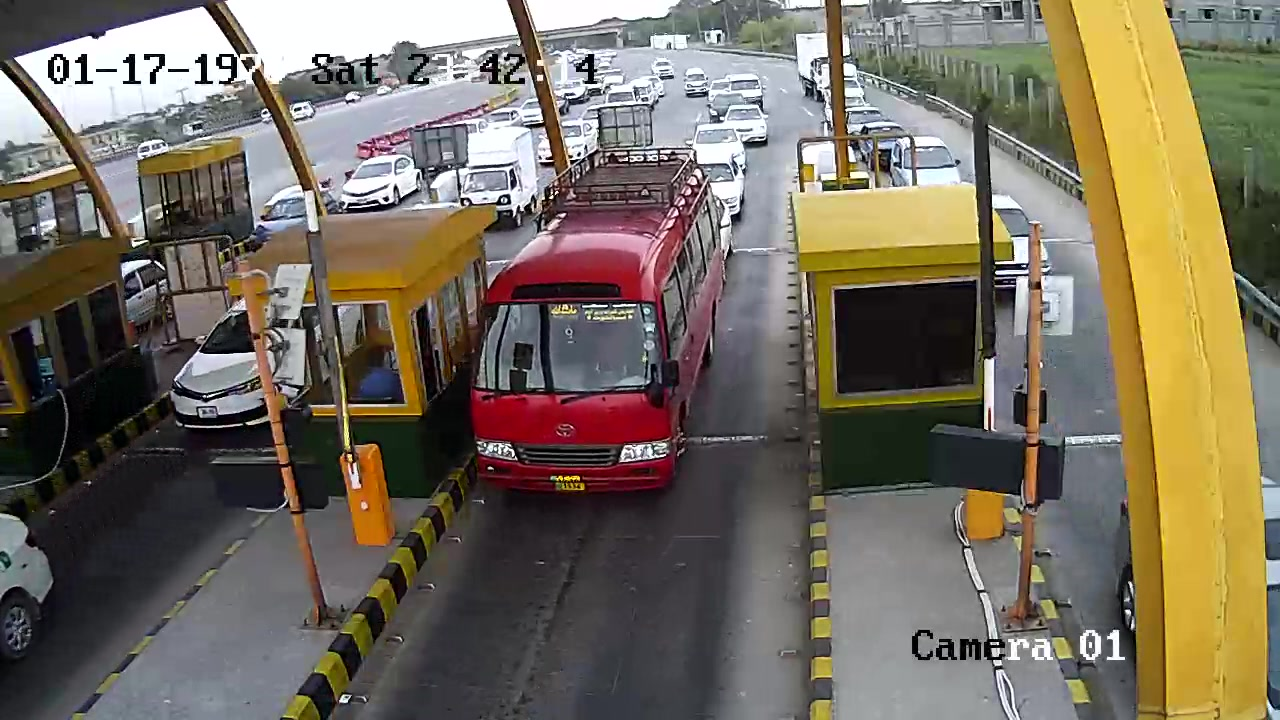F3: (466, 140, 730, 505)
